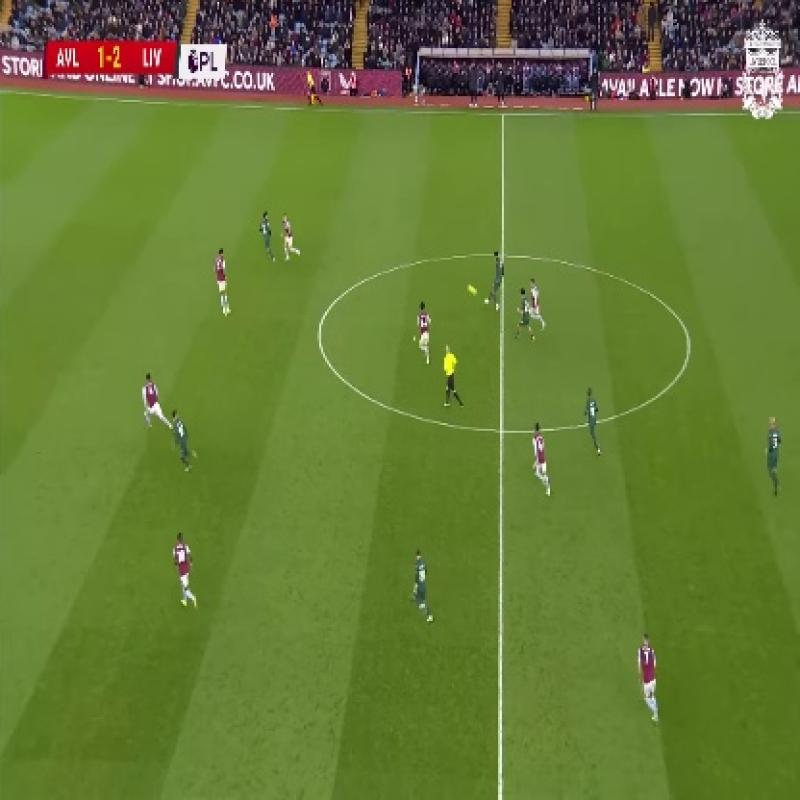13: (492, 100, 511, 125)
14: (490, 241, 514, 268)
15: (488, 412, 514, 446)
c: (306, 318, 339, 356), (673, 329, 703, 362)
